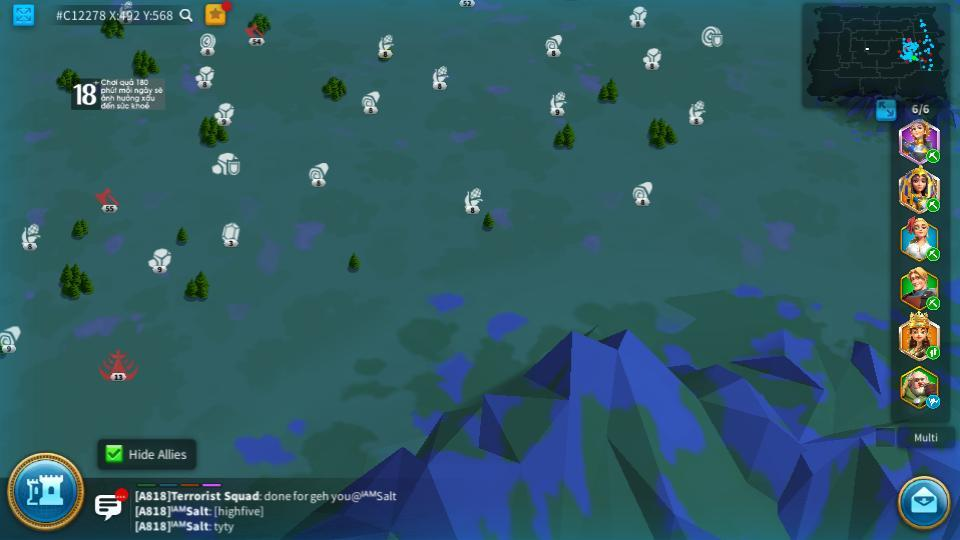gem-z-out: (219, 221, 240, 245)
march_farming: (924, 197, 939, 212)
march_idle: (925, 394, 942, 408)
march_marching: (926, 345, 941, 359), (925, 150, 942, 162), (925, 248, 941, 260), (925, 297, 942, 308)
